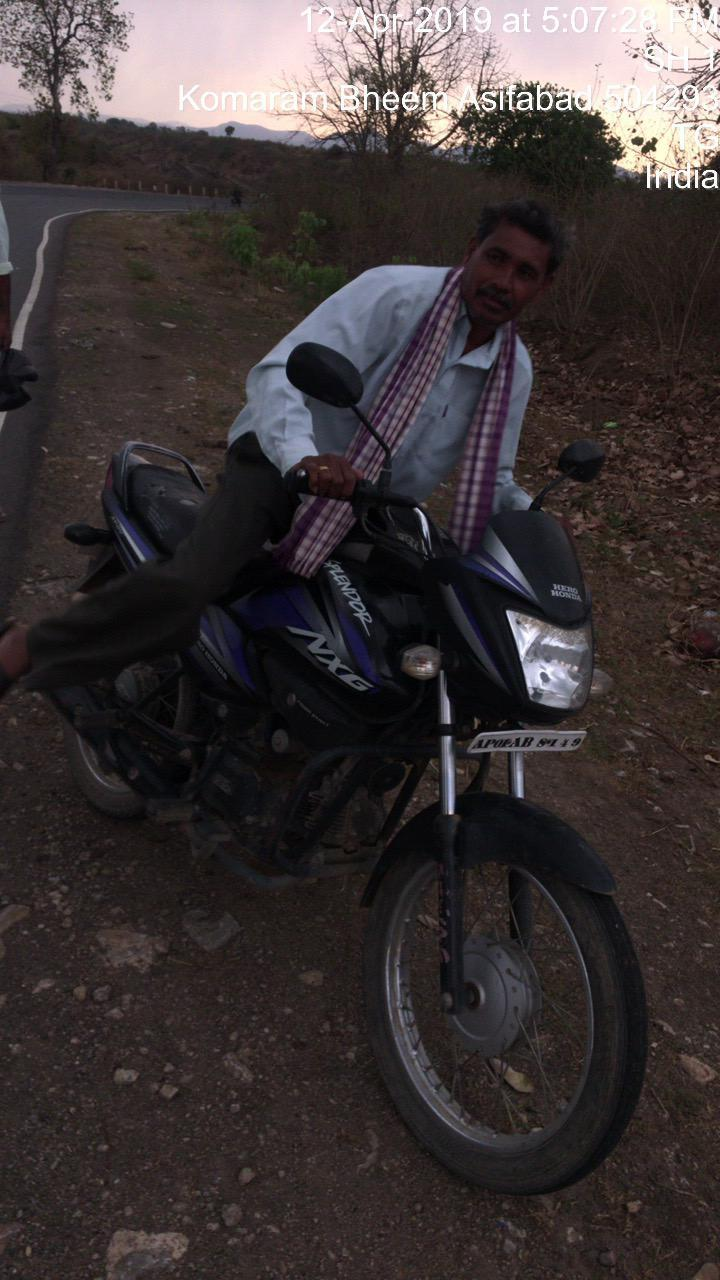plate: (448, 713, 606, 791)
